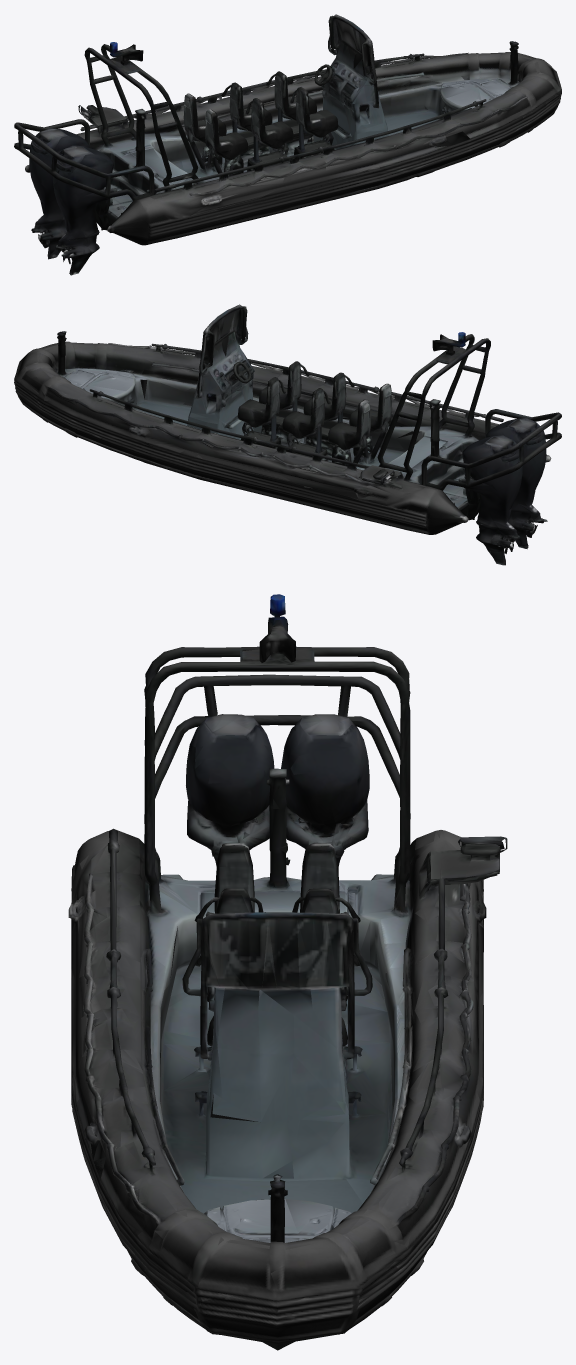
File: TestBoat.glb
3 views of the same model, one above another, from view 1: azimuth 30°, elevation 25°; view 2: azimuth 150°, elevation 25°; view 3: azimuth 270°, elevation 25° (orthographic). The views are drawn at different scales.
Visible parts, largest first — view 1: tripo_node_e3676336-31d4-4126-bd5d-6132232e0266; view 2: tripo_node_e3676336-31d4-4126-bd5d-6132232e0266; view 3: tripo_node_e3676336-31d4-4126-bd5d-6132232e0266.
Boxes of the visible parts, x1,y1,x2,y2 form: tripo_node_e3676336-31d4-4126-bd5d-6132232e0266: (14,14,561,275); tripo_node_e3676336-31d4-4126-bd5d-6132232e0266: (14,304,561,565); tripo_node_e3676336-31d4-4126-bd5d-6132232e0266: (68,594,507,1350).
Size of the model in its own units: 0.9797 by 0.3782 by 0.357.
Materials: 1 (1 with a texture image).
